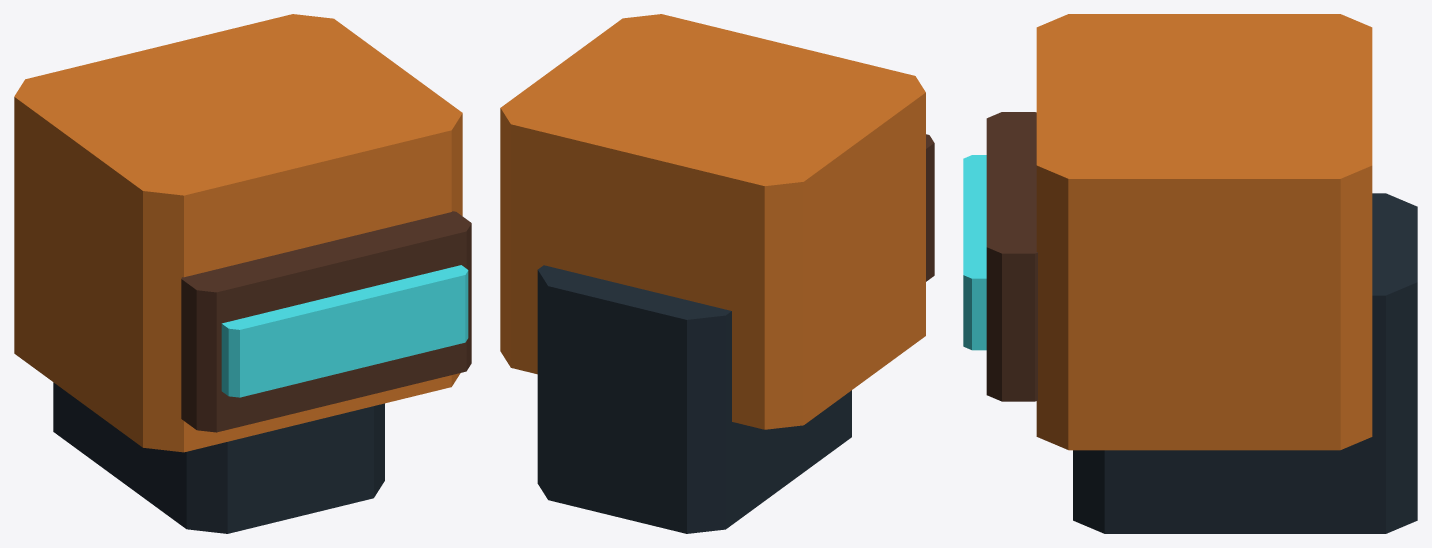
File: enemy_runner_lod_head.obj
The picture shows the model from 3 angles, left to right: view 1: azimuth 30°, elevation 25°; view 2: azimuth 150°, elevation 25°; view 3: azimuth 270°, elevation 25°; orthographic projection. The views are drawn at different scales.
Bounding box in the file's own units: 0.43 × 0.47 × 0.501.
